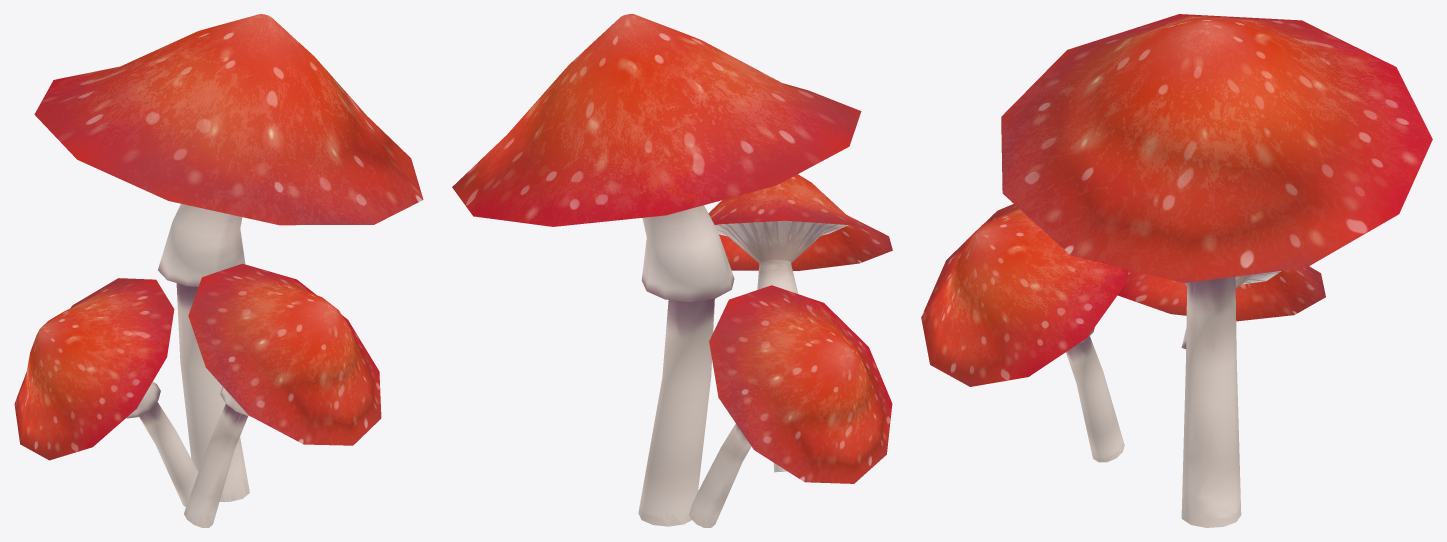
The model's file is mushrooms.glb.
The picture shows the model from 3 angles, left to right: view 1: azimuth 30°, elevation 25°; view 2: azimuth 150°, elevation 25°; view 3: azimuth 270°, elevation 25°; orthographic projection. The views are drawn at different scales.
Parts seen in each view (by area): view 1: Cylinder, Cylinder.002, Cylinder.001; view 2: Cylinder, Cylinder.001, Cylinder.002; view 3: Cylinder, Cylinder.002, Cylinder.001.
Part boxes in pixels (<box>): Cylinder: <box>34,14,423,501</box>; Cylinder.002: <box>184,263,381,527</box>; Cylinder.001: <box>14,278,198,506</box>; Cylinder: <box>452,14,861,526</box>; Cylinder.001: <box>689,285,892,527</box>; Cylinder.002: <box>708,174,892,472</box>; Cylinder: <box>1001,14,1432,527</box>; Cylinder.002: <box>921,204,1128,462</box>; Cylinder.001: <box>1117,266,1325,349</box>.
Bounding box in the file's own units: 2.61 × 3.19 × 2.87.
Materials: 1 (1 with a texture image).
